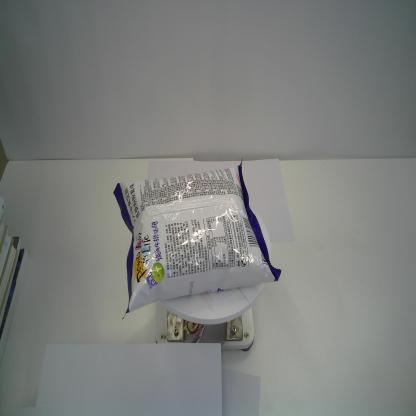Puffed Food: (113, 157, 282, 321)
